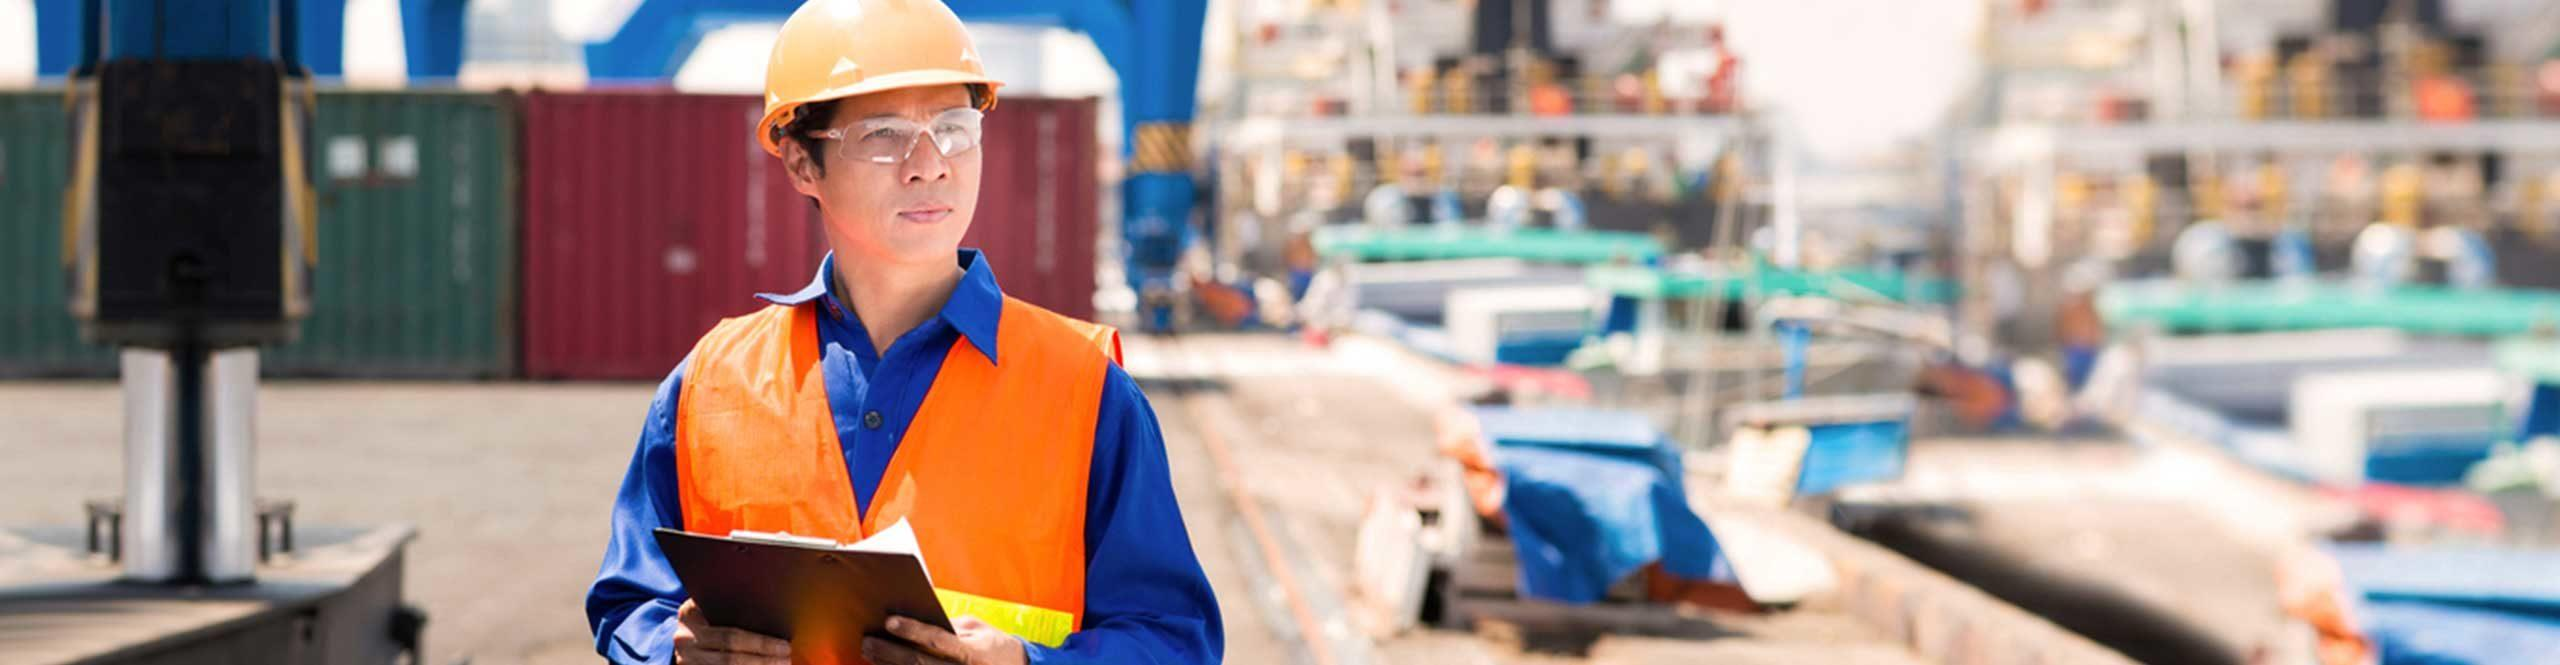helmet: (731, 2, 999, 154)
